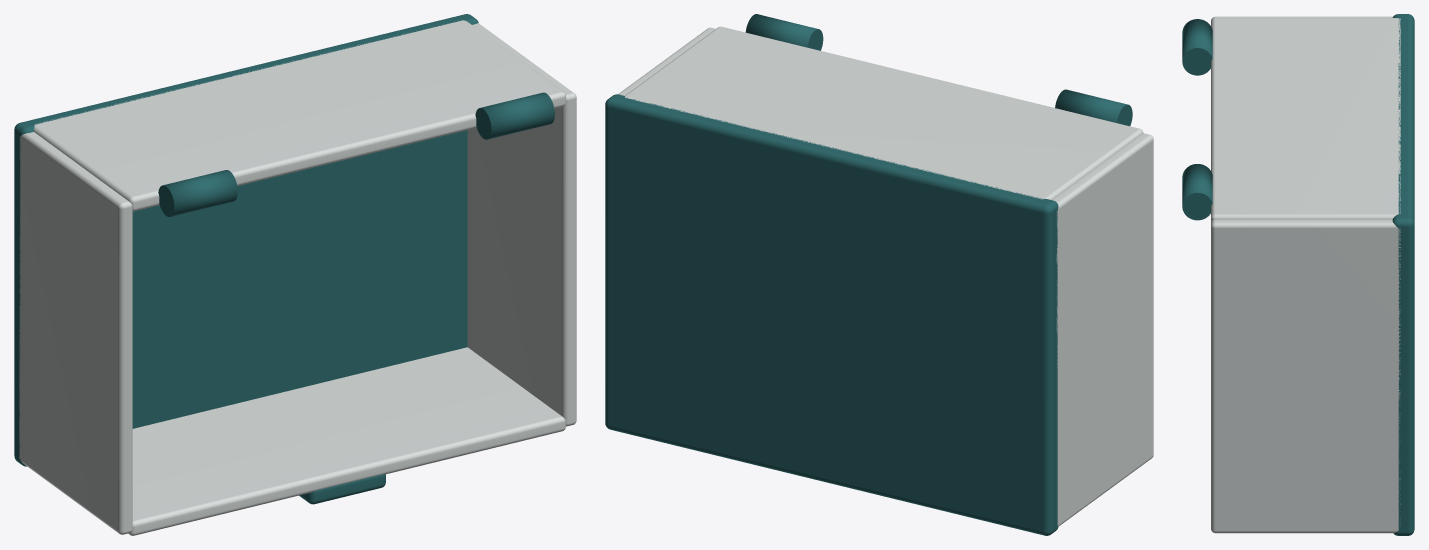
The model's file is body.glb.
3 views of the same model, side by side, from view 1: azimuth 30°, elevation 25°; view 2: azimuth 150°, elevation 25°; view 3: azimuth 270°, elevation 25° (orthographic). The views are drawn at different scales.
Parts seen in each view (by area): view 1: base, wall_rear, wall_front, wall_left, wall_right, hinge_0.045, hinge_-0.045, latch_seat; view 2: base, wall_rear, wall_left, hinge_-0.045, hinge_0.045, wall_right; view 3: wall_right, wall_rear, base, hinge_-0.045, hinge_0.045, wall_left.
Boxes of the visible parts, x1,y1,x2,y2 form: base: [14, 14, 478, 466]; wall_rear: [34, 20, 565, 211]; wall_front: [128, 347, 565, 535]; wall_left: [19, 132, 132, 534]; wall_right: [467, 23, 576, 426]; hinge_0.045: [475, 92, 554, 139]; hinge_-0.045: [158, 170, 237, 216]; latch_seat: [299, 474, 385, 504]; base: [605, 94, 1058, 535]; wall_rear: [625, 26, 1143, 199]; wall_left: [1052, 133, 1153, 526]; hinge_-0.045: [1055, 89, 1132, 126]; hinge_0.045: [745, 14, 823, 50]; wall_right: [618, 27, 715, 95]; wall_right: [1211, 219, 1400, 533]; wall_rear: [1211, 18, 1400, 222]; base: [1392, 14, 1414, 535]; hinge_-0.045: [1182, 19, 1212, 75]; hinge_0.045: [1182, 164, 1212, 220]; wall_left: [1211, 16, 1392, 20].
Bounding box in the file's own units: 0.13 × 0.0985 × 0.061.
